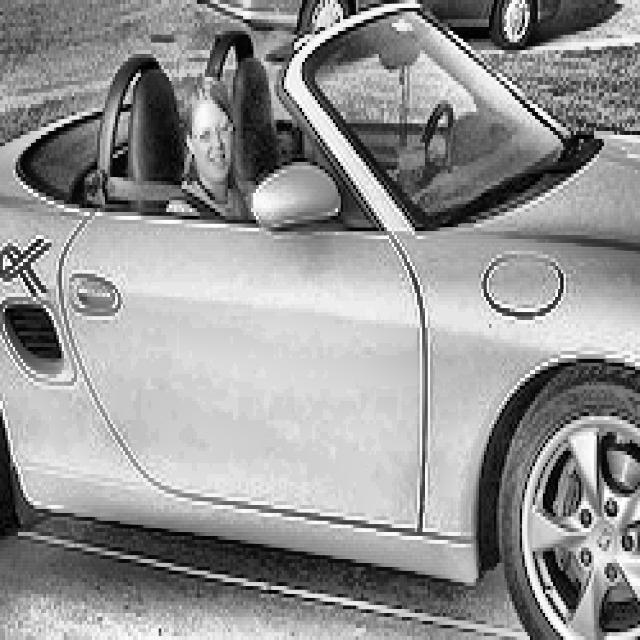light_vehicle: (0, 0, 640, 640), (184, 0, 558, 46)
